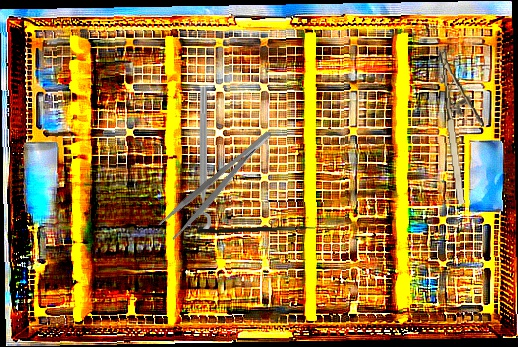Dressing Forceps: (155, 126, 284, 243)
Fixation Ring: (188, 87, 211, 229)
Hook Surgical: (196, 220, 338, 236)
Needle Holder: (439, 46, 491, 205)
